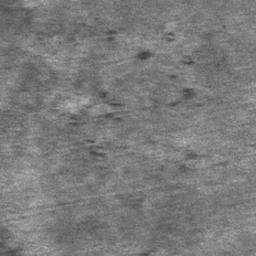Rolled in scale: (39, 78, 128, 171), (137, 30, 202, 109), (0, 208, 26, 256), (152, 133, 179, 172), (38, 23, 86, 42), (106, 28, 125, 42), (139, 250, 154, 256), (215, 161, 228, 167)
